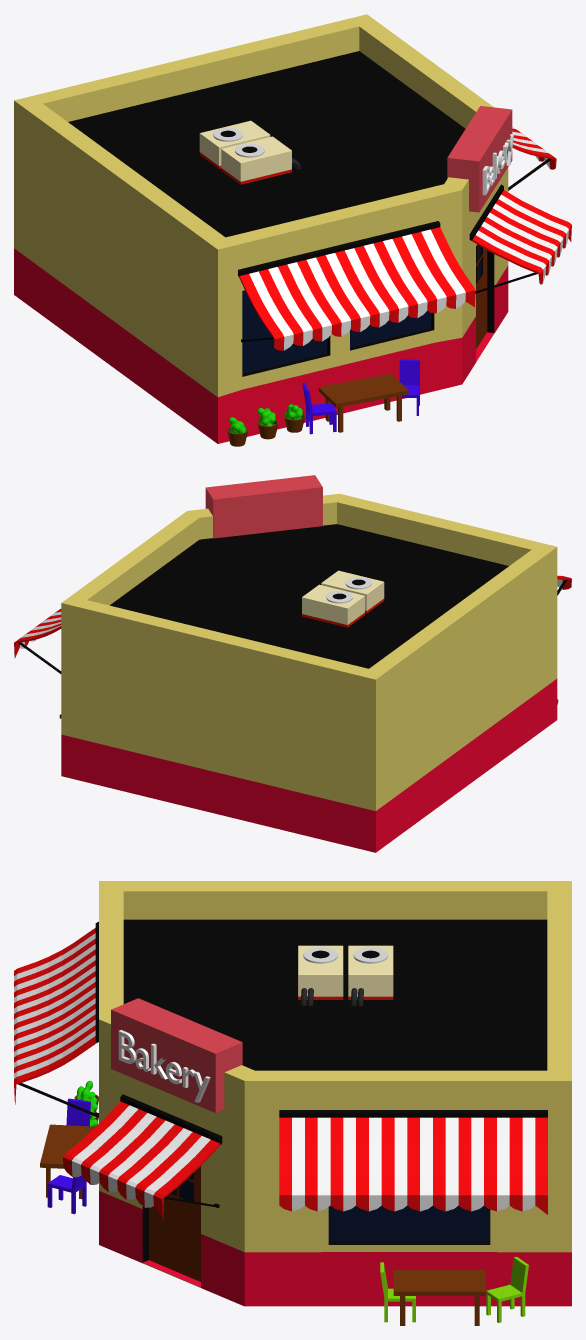
Rendered from bakery.glb.
3 renders of one model, top to bottom at view 1: azimuth 30°, elevation 25°; view 2: azimuth 150°, elevation 25°; view 3: azimuth 270°, elevation 25°, orthographic. The views are drawn at different scales.
Visible parts, largest first — view 1: Object_3, Object_15, Object_4, Object_9, Object_10, Object_7, Object_2, Object_11, Object_19, Object_14, Object_6, Object_17 (+3 smaller); view 2: Object_3, Object_15, Object_4, Object_2, Object_11, Object_9; view 3: Object_3, Object_15, Object_9, Object_10, Object_4, Object_2, Object_7, Object_19, Object_14, Object_5, Object_11, Object_18 (+3 smaller).
Part boxes in pixels (x1,y1,x2,y2): Object_3: [14, 14, 508, 396]; Object_15: [68, 51, 465, 237]; Object_4: [14, 248, 508, 443]; Object_9: [239, 128, 571, 350]; Object_10: [249, 126, 570, 350]; Object_7: [242, 245, 481, 373]; Object_2: [447, 106, 512, 212]; Object_11: [199, 120, 291, 181]; Object_19: [227, 373, 408, 446]; Object_14: [238, 158, 551, 342]; Object_6: [242, 245, 494, 376]; Object_17: [302, 359, 419, 434]; Object_3: [61, 493, 557, 811]; Object_15: [110, 524, 508, 668]; Object_4: [61, 679, 557, 852]; Object_2: [205, 475, 322, 538]; Object_11: [302, 570, 384, 624]; Object_9: [14, 576, 571, 658]; Object_3: [99, 881, 571, 1287]; Object_15: [123, 919, 547, 1070]; Object_9: [14, 928, 547, 1218]; Object_10: [14, 933, 535, 1211]; Object_4: [99, 1191, 571, 1306]; Object_2: [111, 998, 242, 1112]; Object_7: [171, 1173, 490, 1240]; Object_19: [40, 1094, 485, 1325]; Object_14: [18, 921, 547, 1208]; Object_5: [149, 1166, 200, 1281]; Object_11: [298, 945, 393, 996]; Object_18: [380, 1256, 528, 1322].
Size of the model in its own units: 4.48 by 2.2 by 4.48.
